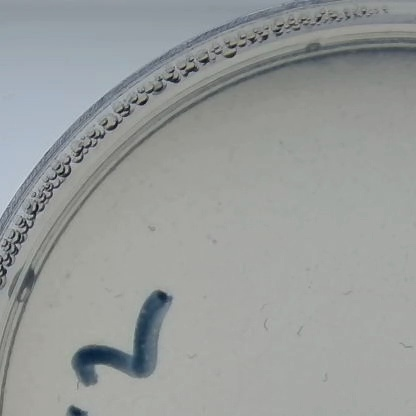worm: (291, 320, 313, 343), (395, 334, 416, 356), (112, 285, 130, 310), (141, 223, 162, 237), (183, 347, 202, 362), (202, 235, 220, 250), (317, 370, 334, 385), (334, 288, 355, 299), (262, 317, 274, 335), (256, 303, 272, 316), (322, 329, 340, 340)
